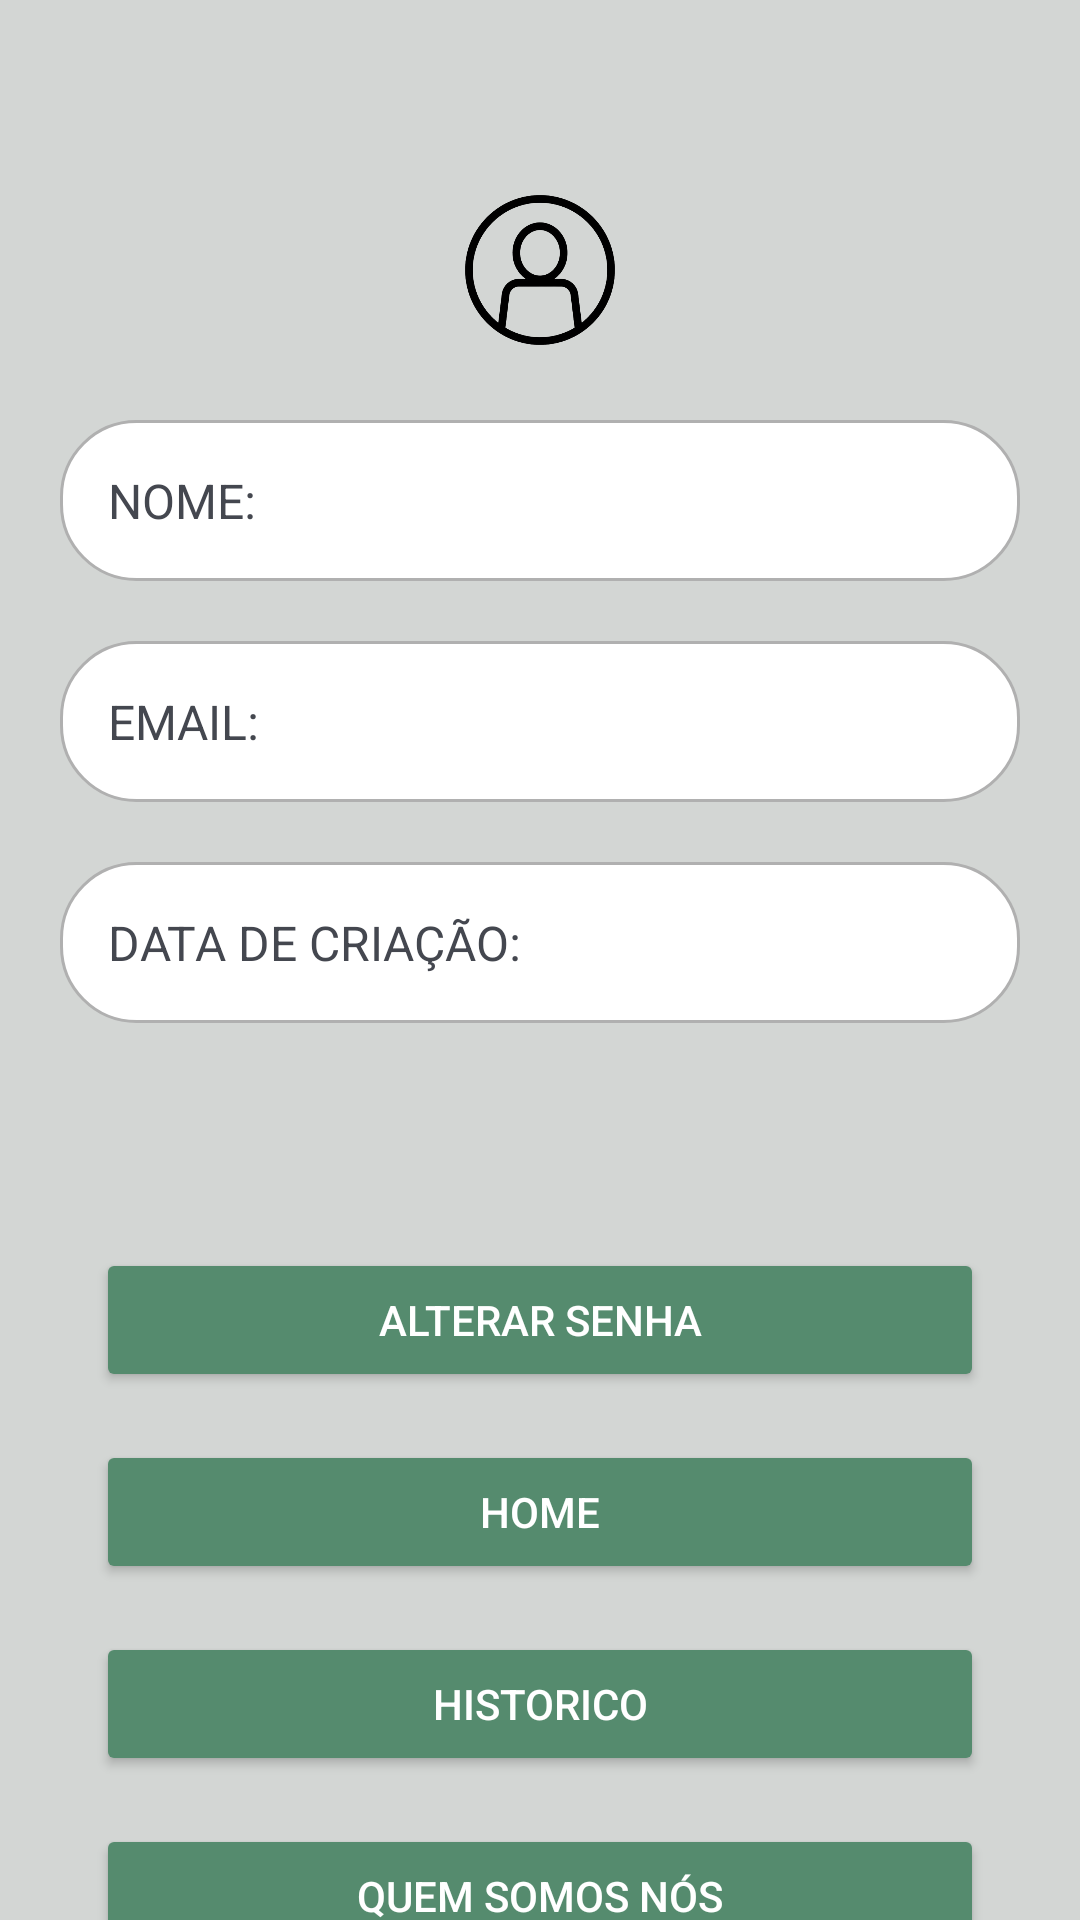

Where icons sit on this 1080px x 1920px app screen, as (x1, y1, x2, y2):
pessoa: (465, 195, 615, 345)
